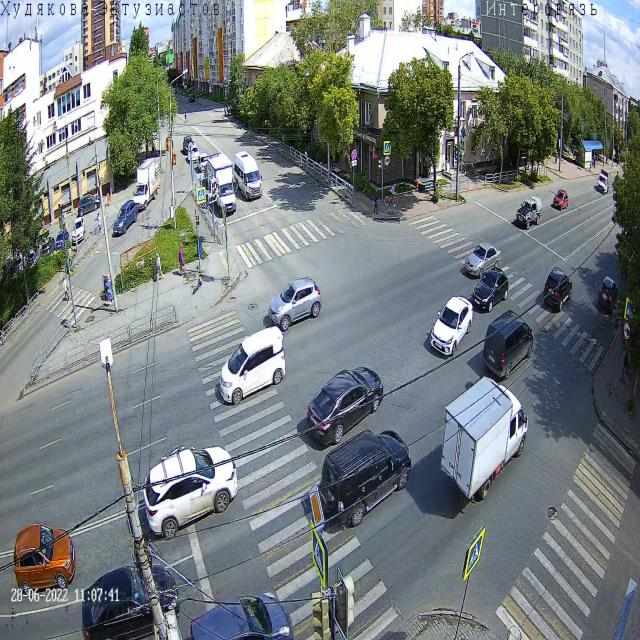bicycle: (384, 183, 399, 207)
car: (142, 444, 239, 541), (319, 428, 412, 528), (81, 564, 181, 640), (306, 366, 384, 448), (218, 324, 286, 406), (188, 591, 294, 640), (13, 521, 76, 597), (481, 310, 534, 380), (429, 295, 474, 360), (472, 265, 509, 313), (464, 240, 502, 280), (543, 266, 573, 314), (113, 199, 138, 237), (516, 195, 542, 228), (598, 274, 619, 314), (553, 188, 569, 212), (204, 162, 219, 187), (197, 152, 210, 174), (188, 144, 200, 164), (183, 135, 194, 156), (150, 123, 160, 141), (188, 93, 195, 104)
pedestrian: (155, 251, 165, 283), (178, 240, 186, 277), (62, 275, 70, 302), (373, 188, 379, 216), (96, 212, 102, 236), (184, 110, 188, 124), (227, 103, 230, 118), (589, 158, 592, 173), (606, 152, 609, 166), (594, 155, 596, 170), (224, 103, 226, 117)
shuttle_taxi: (234, 150, 263, 202)
truck: (439, 375, 529, 509), (207, 153, 238, 216), (132, 156, 161, 212), (597, 165, 620, 194)
